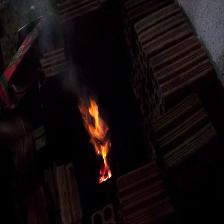fire: (63, 82, 129, 209)
